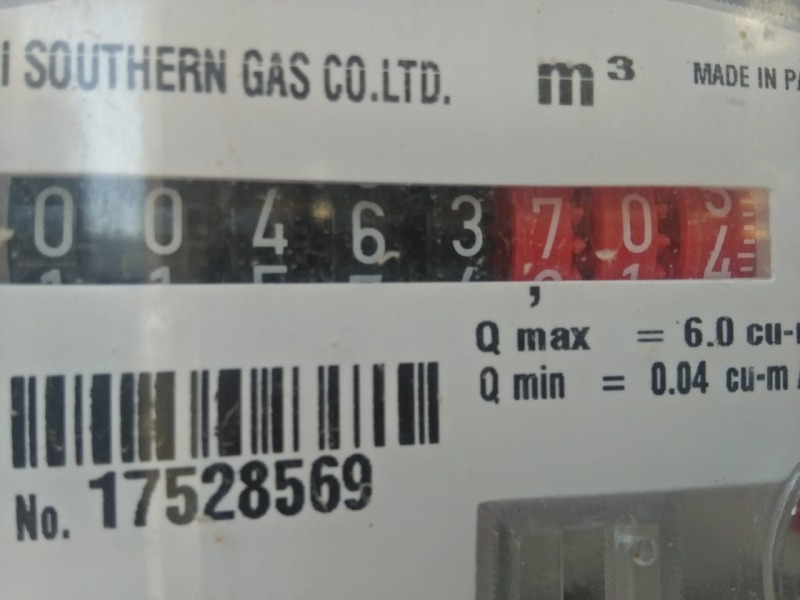ssgc: (5, 174, 770, 286)
